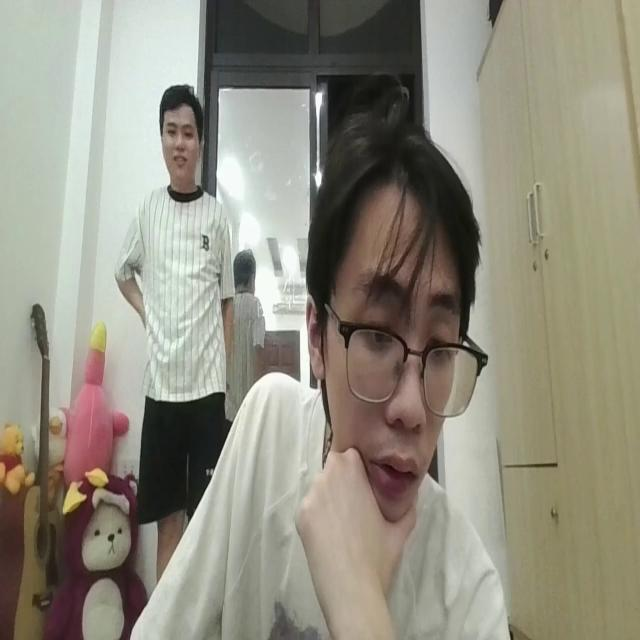extra_person: (116, 74, 237, 480)
student: (134, 93, 511, 640)
